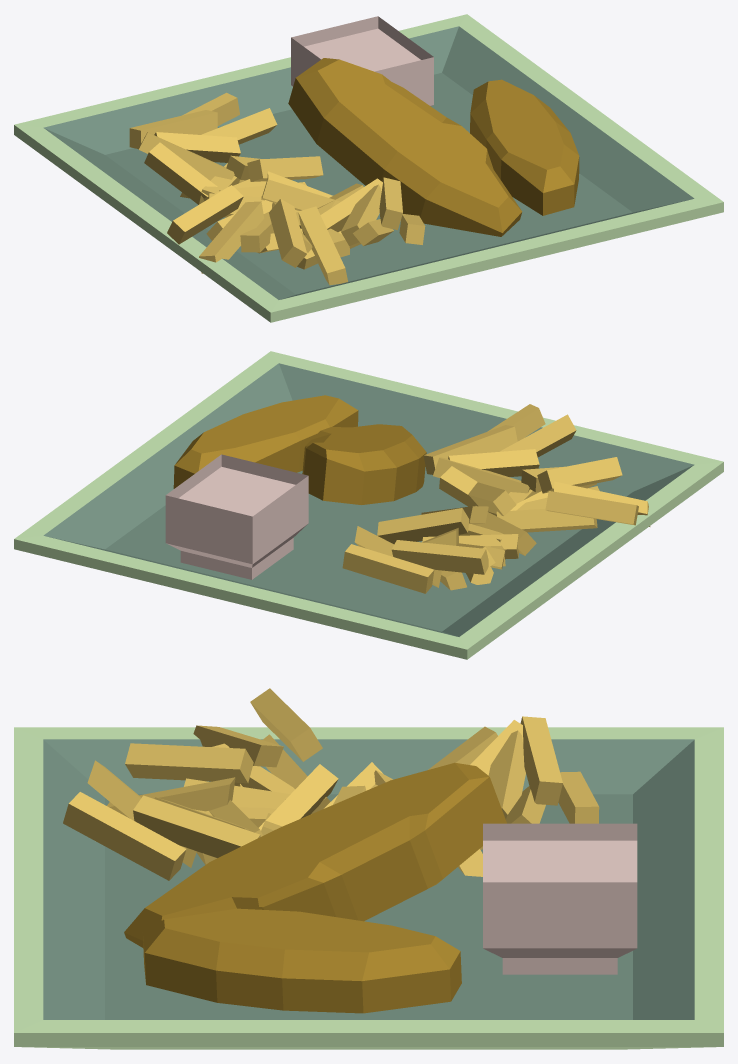
File: FishFood.fbx
3 views of the same model, one above another, from view 1: azimuth 30°, elevation 25°; view 2: azimuth 150°, elevation 25°; view 3: azimuth 270°, elevation 25° (orthographic). The views are drawn at different scales.
Visible parts, largest first — view 1: Plate.001; view 2: Plate.001; view 3: Plate.001.
Boxes of the visible parts, box(x1,y1,x2,y2) form: Plate.001: box(14, 14, 723, 322); Plate.001: box(14, 351, 723, 659); Plate.001: box(14, 688, 723, 1049).
Size of the model in its own units: 0.1531 by 0.0409 by 0.148.
